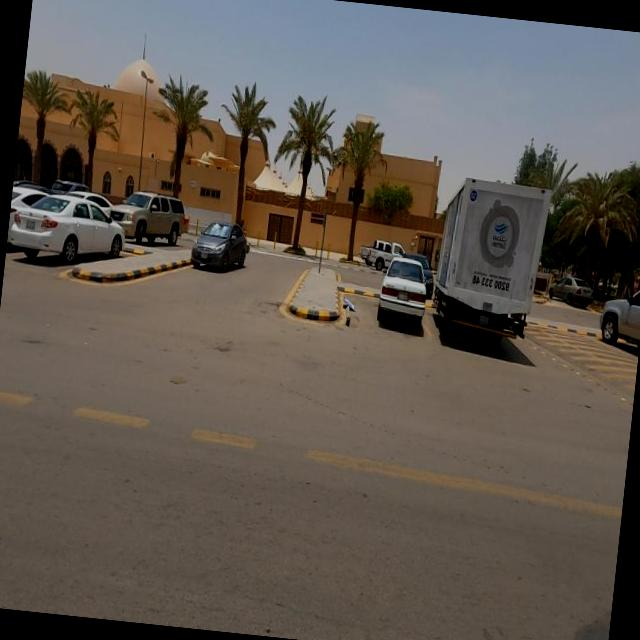debris: (312, 249, 386, 370)
